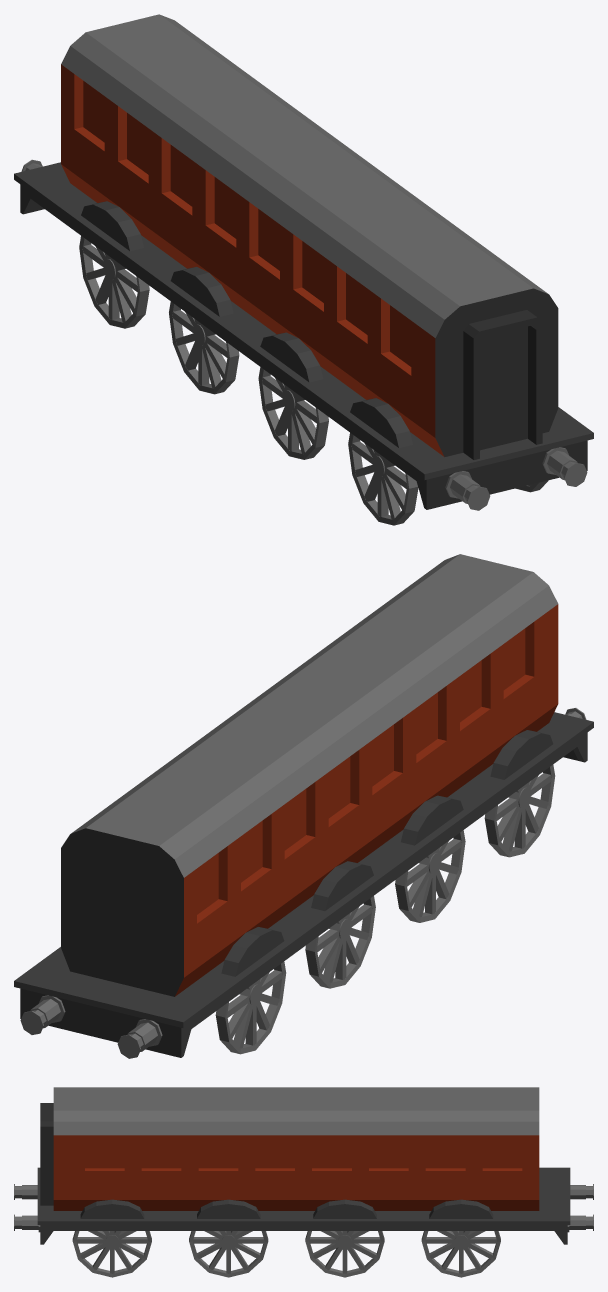
The model's file is Train_Base_Low_Back.fbx.
The picture shows the model from 3 angles, top to bottom: view 1: azimuth 30°, elevation 25°; view 2: azimuth 150°, elevation 25°; view 3: azimuth 270°, elevation 25°; orthographic projection. The views are drawn at different scales.
Parts seen in each view (by area): view 1: Object012, Object029, Object035; view 2: Object012, Object029; view 3: Object012, Object029, Object035.
Boxes of the visible parts, left/top/right/bottom form: Object012: left=14, top=14, right=593, bottom=510; Object029: left=79, top=201, right=548, bottom=525; Object035: left=463, top=310, right=542, bottom=459; Object012: left=14, top=554, right=593, bottom=1058; Object029: left=215, top=730, right=555, bottom=1054; Object012: left=14, top=1087, right=593, bottom=1244; Object029: left=72, top=1199, right=500, bottom=1277; Object035: left=40, top=1103, right=53, bottom=1205.
Bounding box in the file's own units: 105 × 142 × 482.
